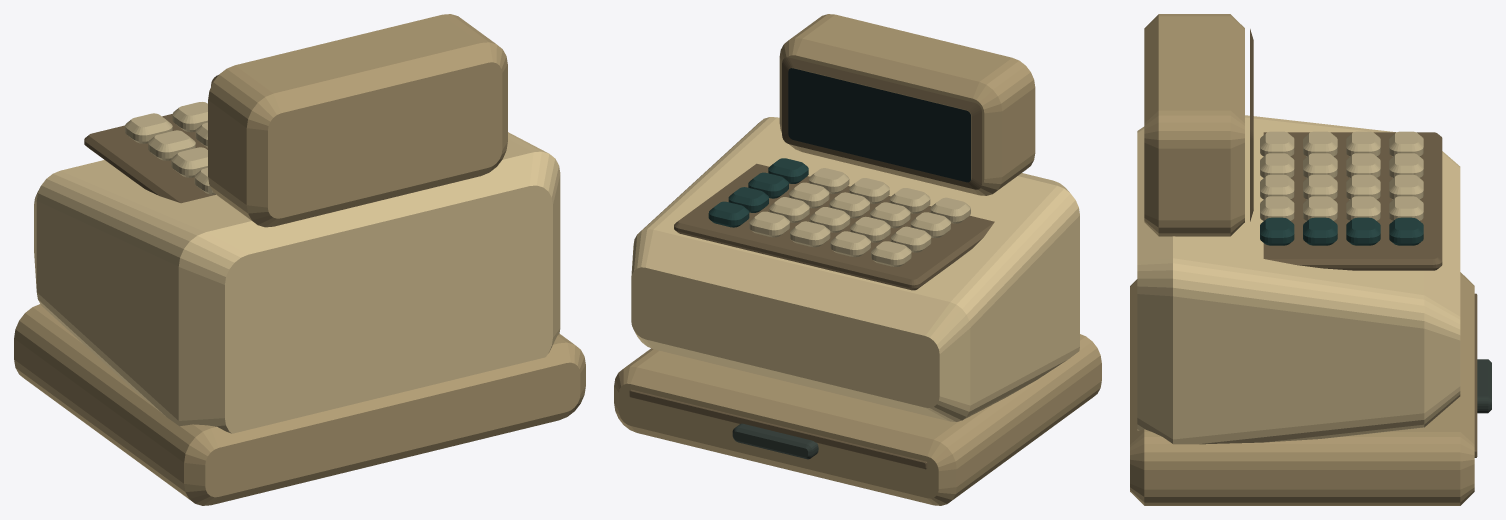
The model's file is credits_till.obj.
3 renders of one model, left to right at view 1: azimuth 30°, elevation 25°; view 2: azimuth 150°, elevation 25°; view 3: azimuth 270°, elevation 25°, orthographic. The views are drawn at different scales.
Parts seen in each view (by area): view 1: till_body, readout_housing, drawer, key_bed, till_keys_number; view 2: till_body, drawer, readout_housing, runtime_credits, till_keys_number, key_bed, readout_recess, till_keys_action, drawer_seam, drawer_pull; view 3: till_body, drawer, readout_housing, till_keys_number, key_bed, till_keys_action, drawer_pull, readout_recess, drawer_seam.
Boxes of the visible parts, box(x1,y1,x2,y2) form: till_body: box(34, 132, 560, 433); readout_housing: box(208, 14, 507, 227); drawer: box(14, 304, 585, 505); key_bed: box(84, 114, 215, 203); till_keys_number: box(125, 102, 215, 194); till_body: box(631, 117, 1079, 421); drawer: box(614, 334, 1101, 505); readout_housing: box(779, 14, 1035, 195); runtime_credits: box(788, 68, 970, 182); till_keys_number: box(749, 168, 970, 266); key_bed: box(674, 163, 994, 290); readout_recess: box(782, 57, 981, 189); till_keys_action: box(708, 158, 808, 227); drawer_seam: box(629, 389, 927, 469); drawer_pull: box(732, 423, 818, 459); till_body: box(1137, 115, 1460, 444); drawer: box(1130, 272, 1474, 505); readout_housing: box(1144, 14, 1244, 236); till_keys_number: box(1260, 131, 1423, 221); key_bed: box(1263, 132, 1442, 270); till_keys_action: box(1260, 217, 1423, 245); drawer_pull: box(1477, 359, 1491, 413); readout_recess: box(1250, 29, 1253, 221); drawer_seam: box(1474, 293, 1477, 457).
Bounding box in the file's own units: 0.6 × 0.555 × 0.504.
